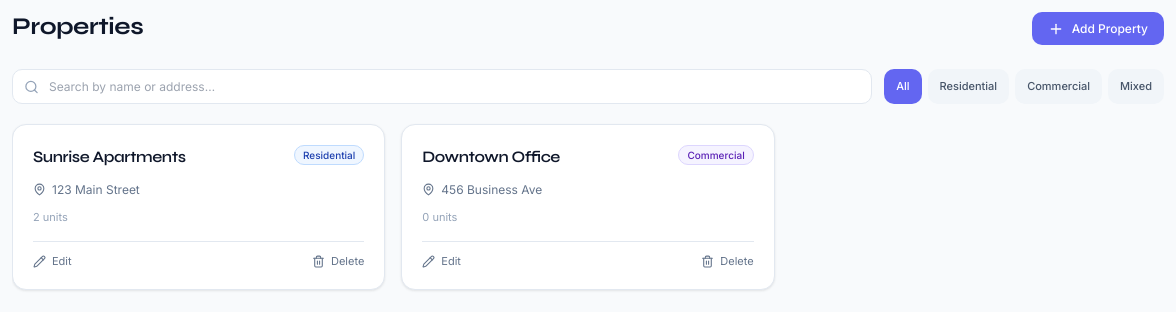
PropertiesList › shows empty state when search matches nothing
In the field with placeholder "Search by name or address…": (442, 86) [12,69,872,104], type "zzznomatch"
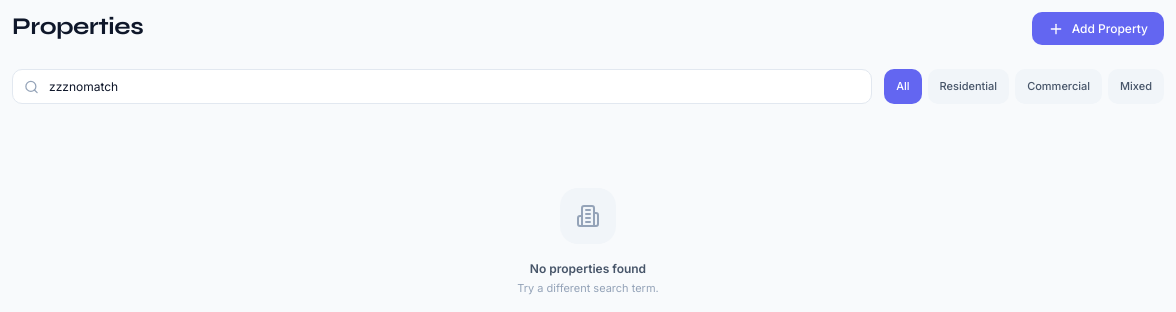
Check: the text "No properties found" is shown, box [530,260,646,277]
